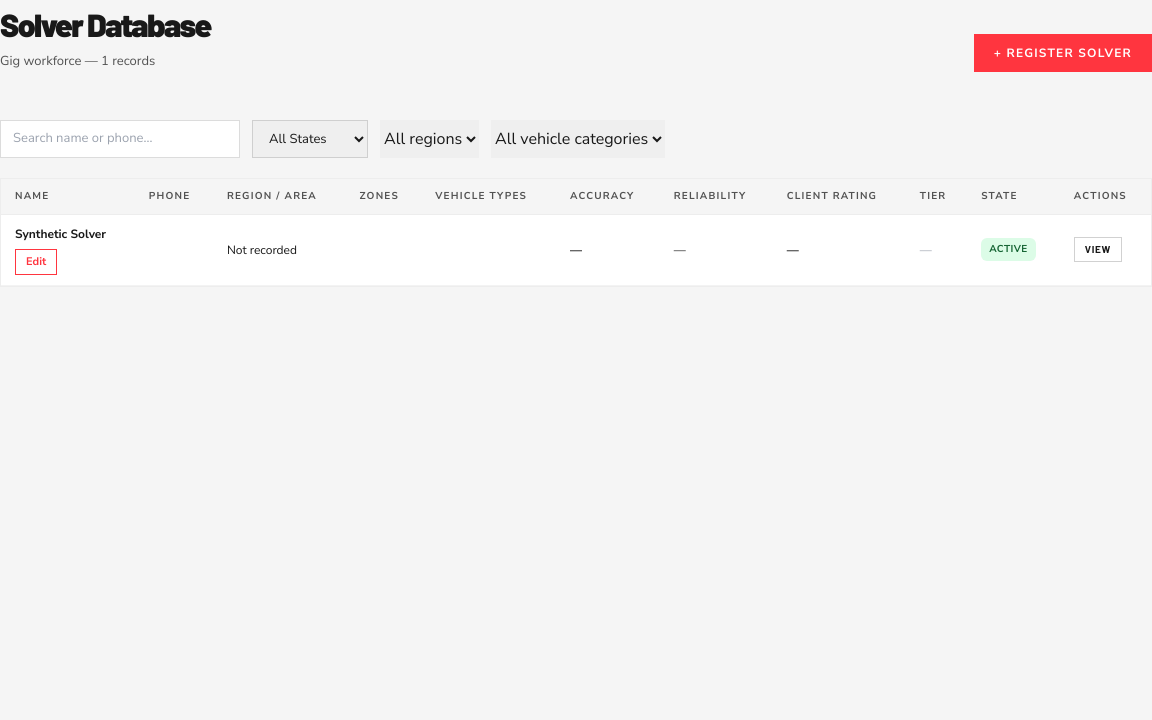
Test: HR changes status using only the existing authorized update endpoint
Later steps or results of the test are not shown.
Click the button with test id "edit-solver-one": (36, 262) top-left (15, 248), bottom-right (57, 275)
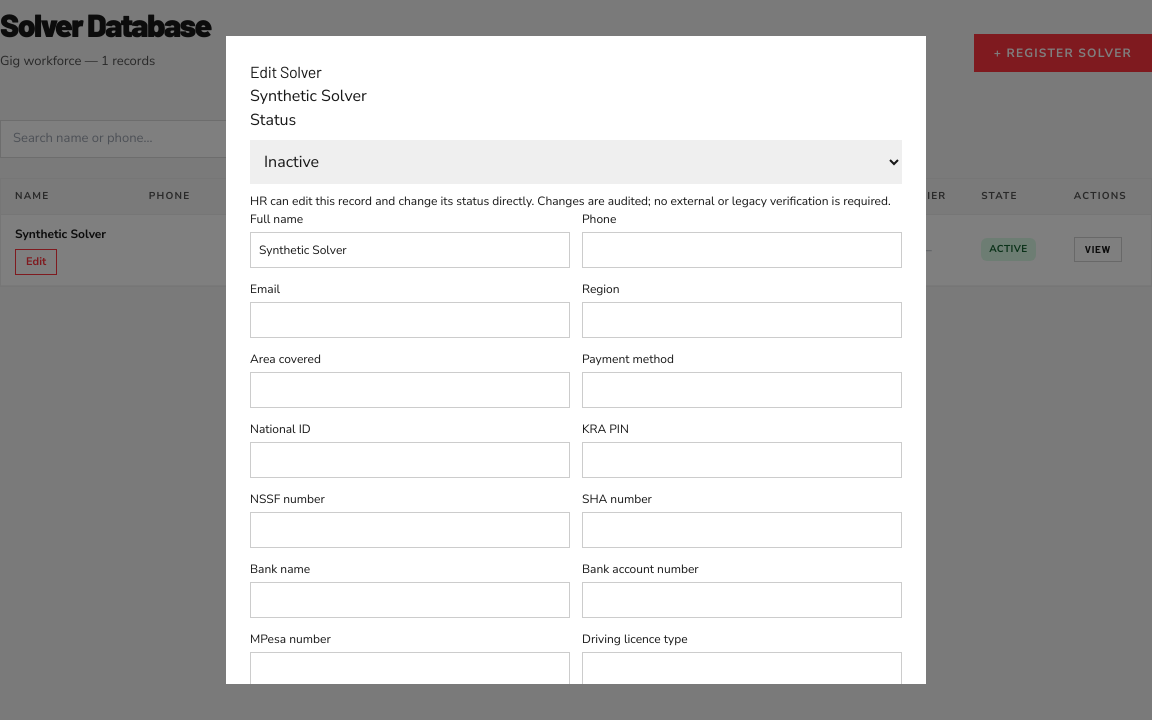
Select "Inactive" in the dropdown with id "solver-status": (576, 162) top-left (250, 140), bottom-right (902, 184)
Select "Inactive" in the dropdown with id "solver-status": (576, 162) top-left (250, 140), bottom-right (902, 184)
(page scrolled)
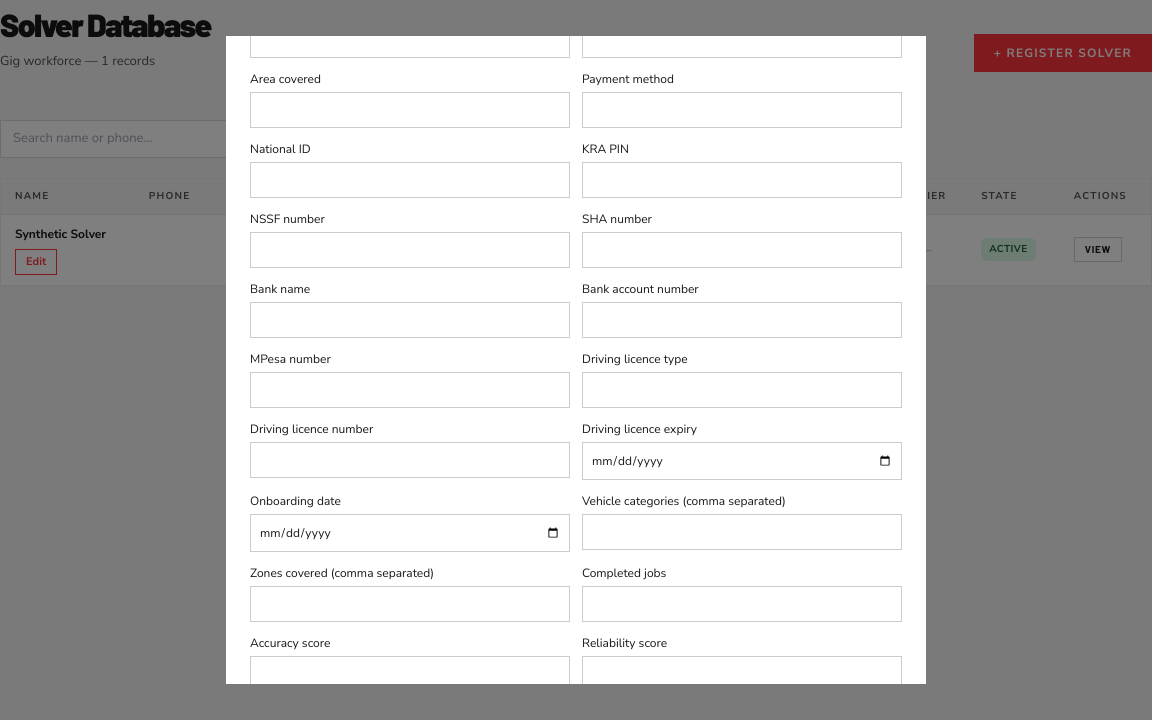
Submit the form
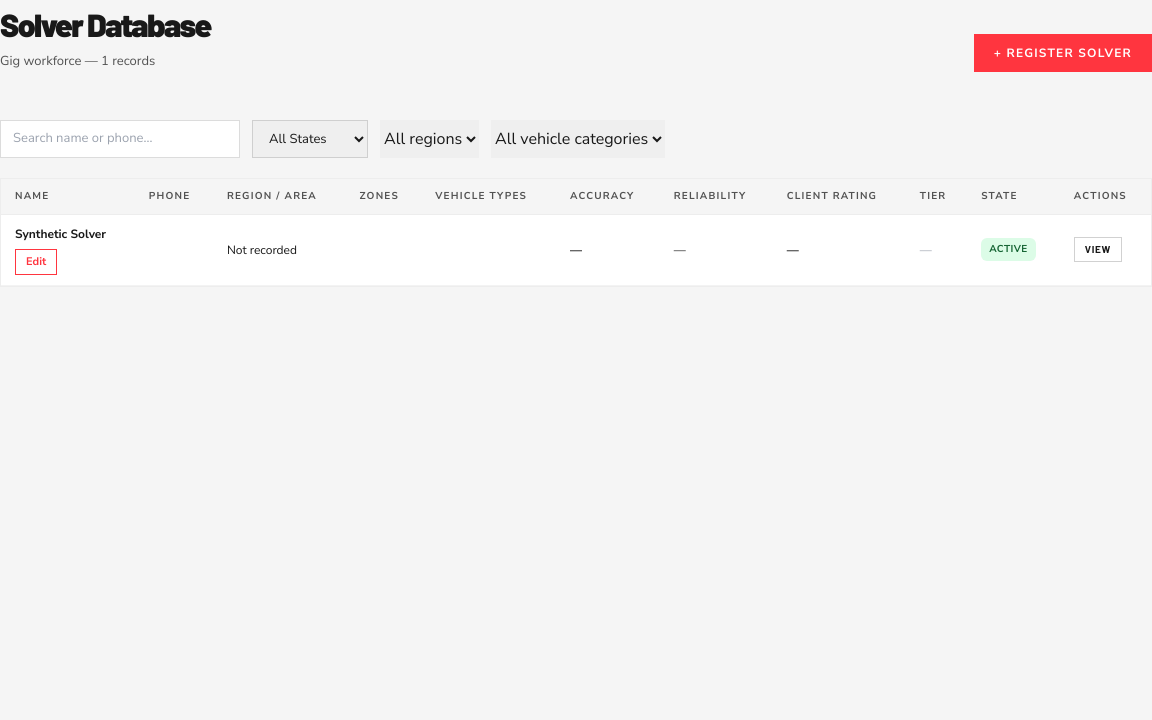
Result: the dialog is gone
